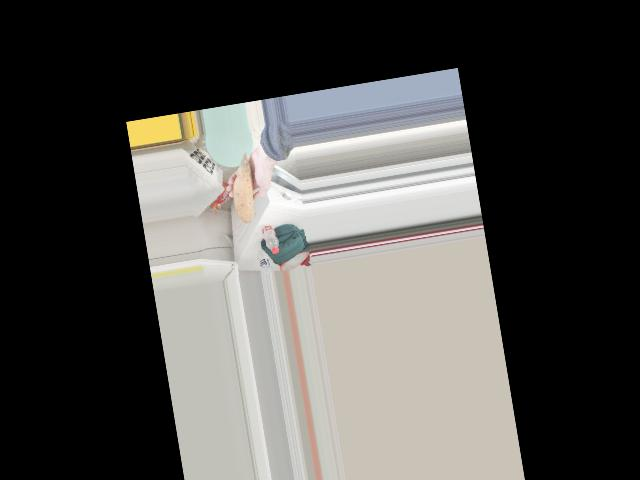sweet_potato: (226, 162, 258, 223)
